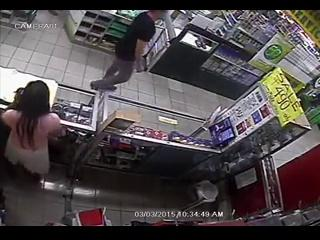Normal: (0, 80, 65, 186), (89, 10, 170, 92)
